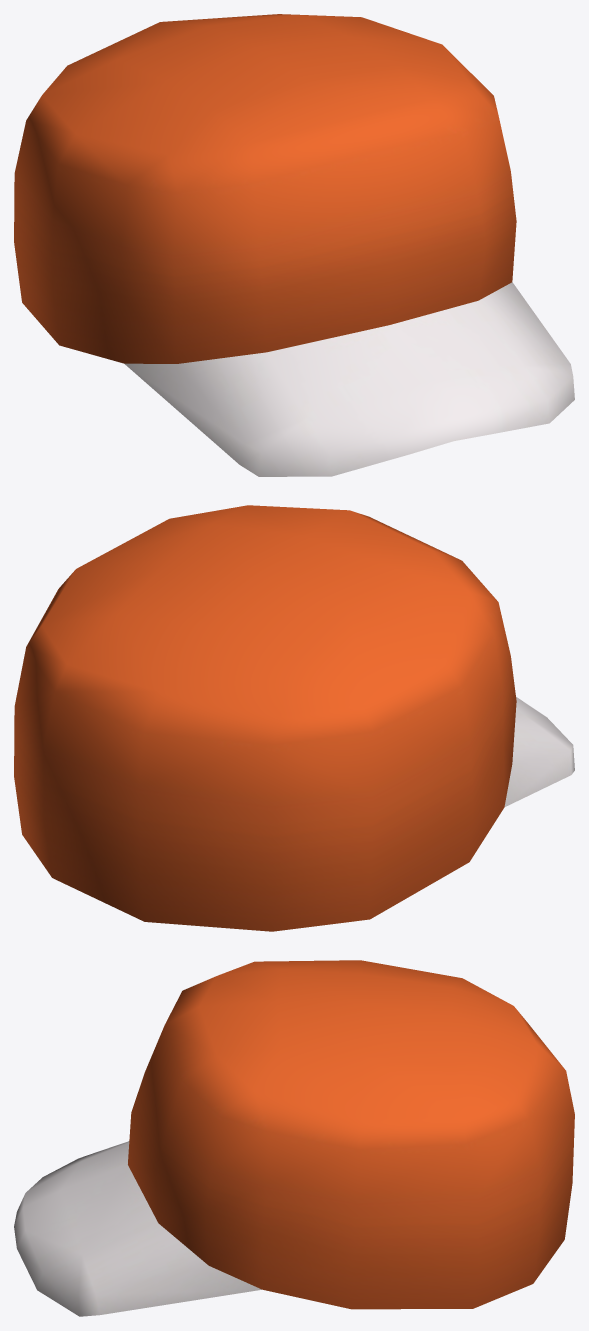
File: hat_default_2.fbx
3 views of the same model, one above another, from view 1: azimuth 30°, elevation 25°; view 2: azimuth 150°, elevation 25°; view 3: azimuth 270°, elevation 25° (orthographic). The views are drawn at different scales.
Parts seen in each view (by area): view 1: hat_default_2; view 2: hat_default_2; view 3: hat_default_2.
Boxes of the visible parts, x1,y1,x2,y2 form: hat_default_2: [14, 14, 574, 476]; hat_default_2: [14, 505, 574, 931]; hat_default_2: [14, 960, 574, 1316].
Size of the model in its own units: 56.61 by 35.51 by 73.4.
